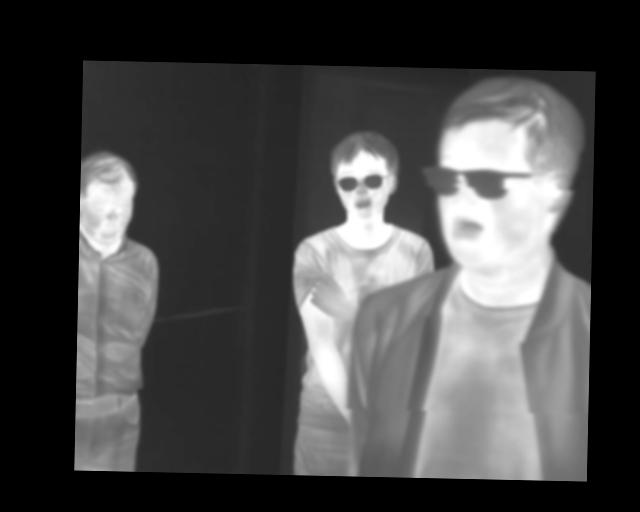face: (434, 72, 581, 272), (328, 129, 398, 222), (79, 148, 139, 247)
